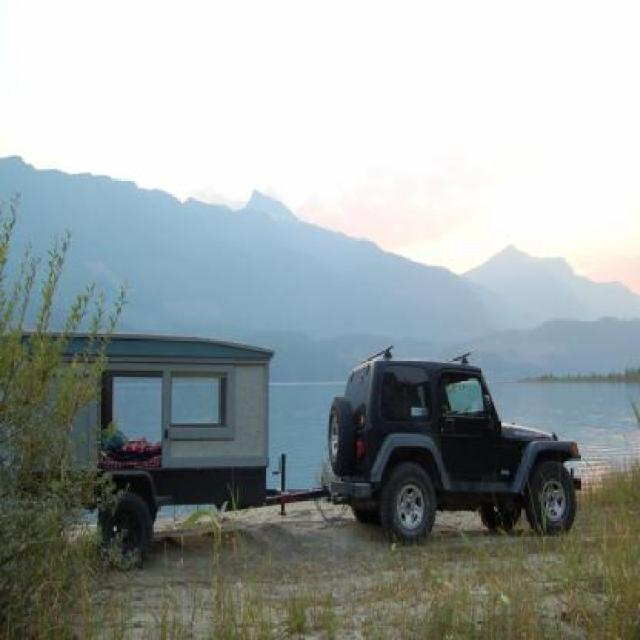Jeep: (326, 346, 585, 548)
